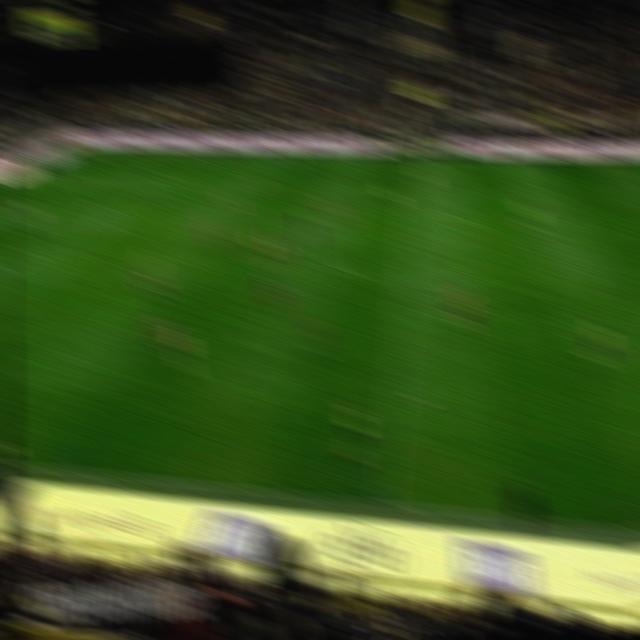bigarea_top_inner: (131, 168, 155, 183)
bigarea_top_outter: (23, 165, 46, 180)
bottom_arc_area_intersection: (16, 244, 40, 259)
corner: (71, 141, 95, 157)
halfcircle_bottom: (394, 273, 417, 290)
halfcircle_top: (399, 202, 423, 219)
midline_bottom_intersection: (371, 493, 399, 513)
midline_top_intersection: (405, 151, 428, 166)
smallarea_top_inner: (9, 189, 34, 205)
top_arc_area_intersection: (88, 197, 112, 213)
